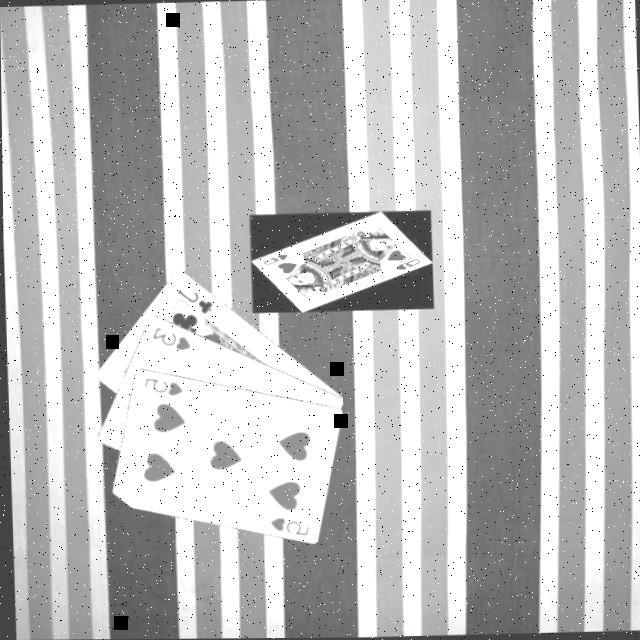3H: (148, 320, 194, 351)
5H: (140, 371, 184, 397), (266, 511, 310, 537)
JC: (172, 282, 215, 316)
